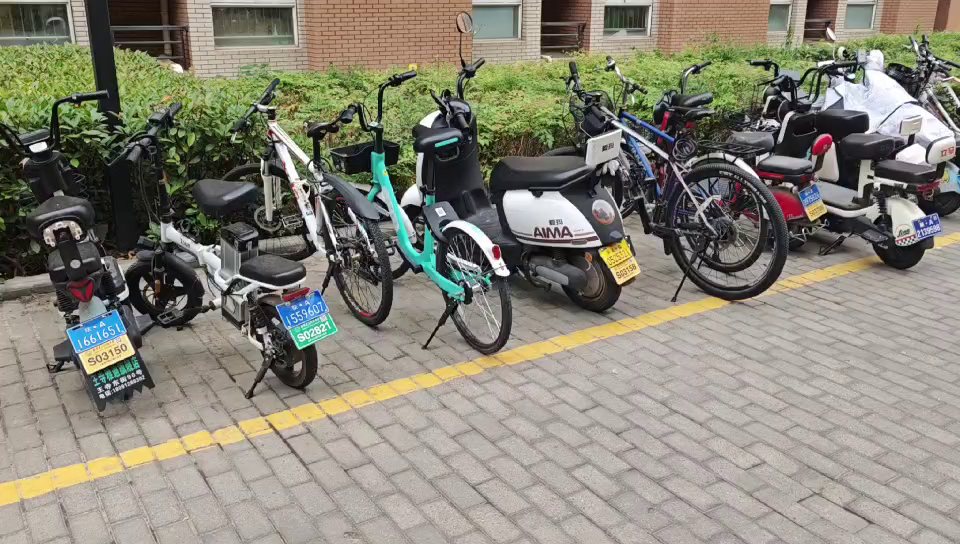others: (554, 69, 789, 296), (427, 66, 644, 311), (128, 120, 300, 390), (1, 104, 132, 388), (759, 67, 934, 268)
shared_bike_qingcong: (299, 73, 499, 356)
